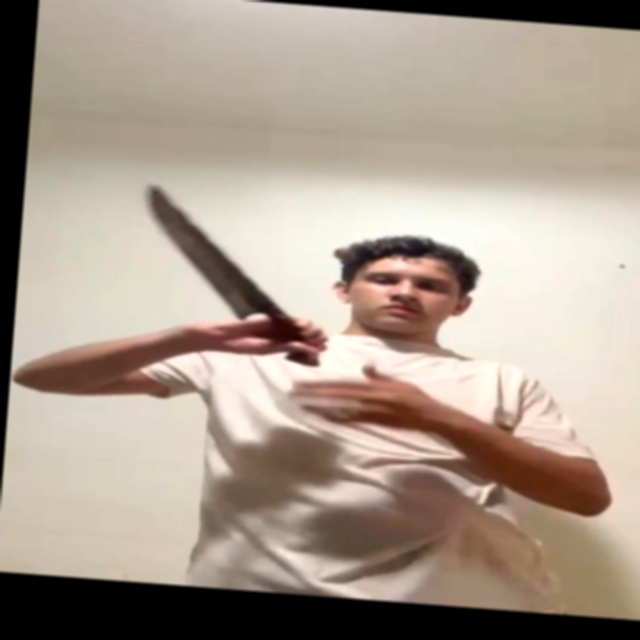Sharp-Object: (140, 183, 279, 318)
